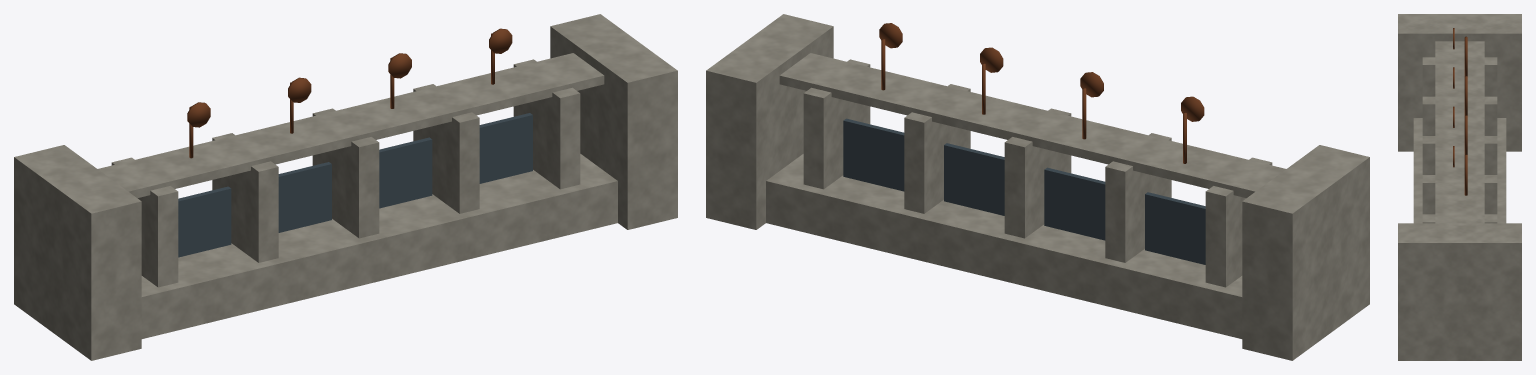
The model's file is sluice_gate.fbx.
3 views of the same model, side by side, from view 1: azimuth 30°, elevation 25°; view 2: azimuth 150°, elevation 25°; view 3: azimuth 270°, elevation 25° (orthographic). The views are drawn at different scales.
Visible parts, largest first — view 1: Anicut; view 2: Anicut; view 3: Anicut.
Part boxes in pixels (<box>): Anicut: <box>14,14,677,360</box>; Anicut: <box>706,14,1369,360</box>; Anicut: <box>1398,14,1521,360</box>.
Bounding box in the file's own units: 17.5 × 5.65 × 4.
